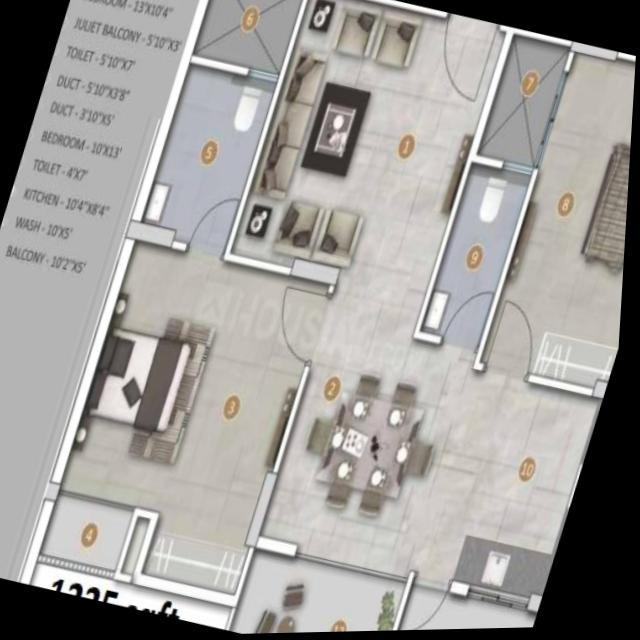Balcony-Sitout: (237, 540, 420, 635), (40, 488, 142, 578)
Bedroom: (476, 44, 637, 401)
Bedroom with Toilet: (55, 57, 337, 604)
Dining: (290, 362, 466, 541)
Kitchen: (416, 363, 610, 607)
Living: (228, 0, 510, 309)
Toilet: (136, 53, 286, 260), (417, 159, 541, 359)
Utility: (401, 575, 548, 632)
